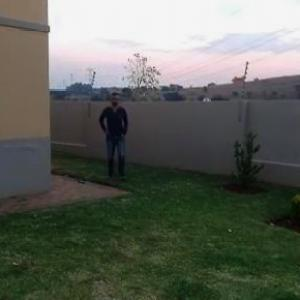follow: (98, 89, 130, 183)
